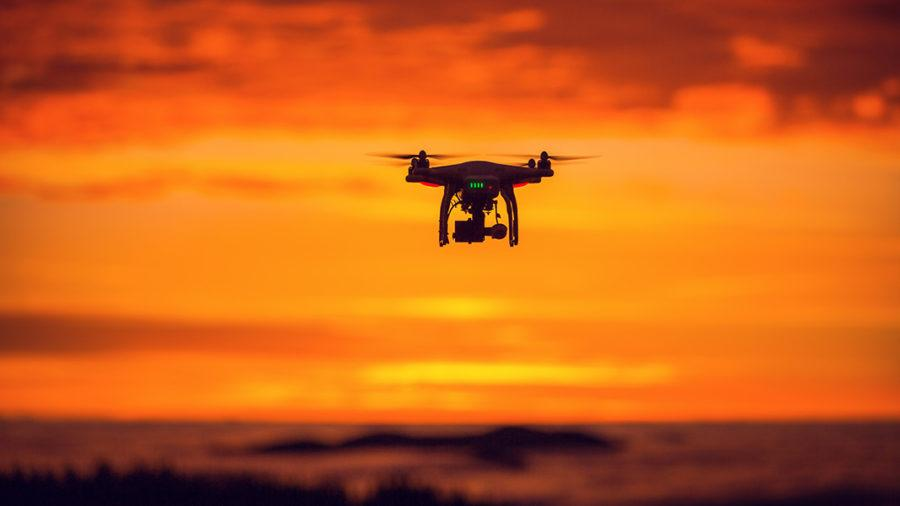drone_other: (369, 147, 598, 248)
